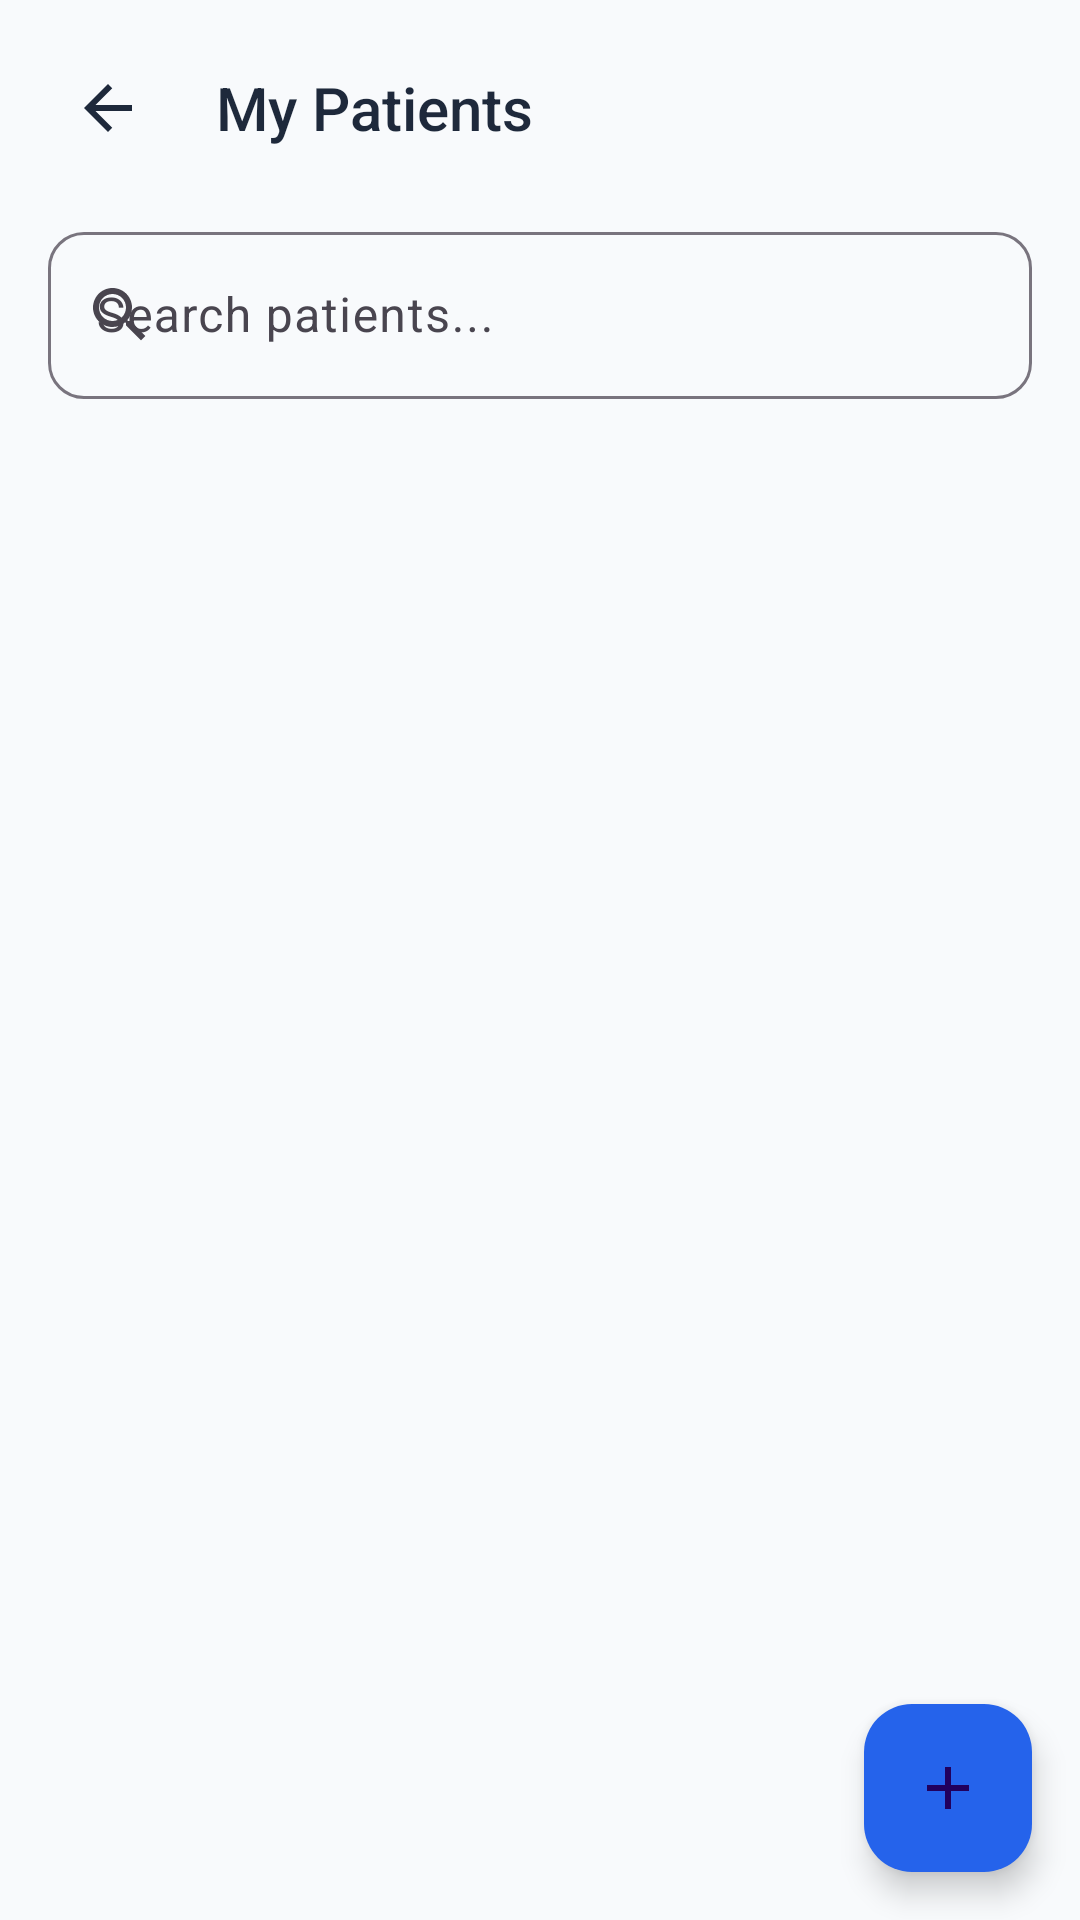

Icons on this 1080×1920 Android screen, each with its box as bbox(x1, y1, x2, y2):
Back: bbox(84, 84, 132, 132)
plus: bbox(864, 1704, 1032, 1872)
